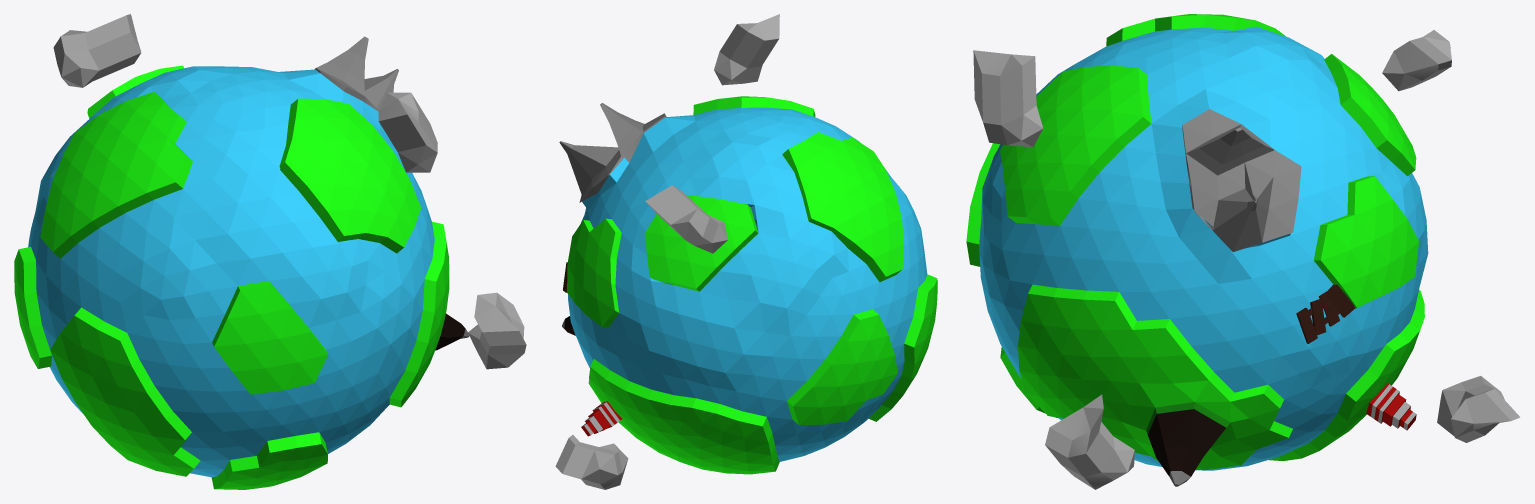
Rendered from ball.obj.
3 views of the same model, side by side, from view 1: azimuth 30°, elevation 25°; view 2: azimuth 150°, elevation 25°; view 3: azimuth 270°, elevation 25° (orthographic). The views are drawn at different scales.
Visible parts, largest first — view 1: Icosphere.000, Icosphere.004_Icosphere.001, Icosphere.001_Icosphere.001, Icosphere.002_Icosphere.001; view 2: Icosphere.000, Icosphere.001_Icosphere.001, Icosphere.004_Icosphere.001, Icosphere.003_Icosphere.001, Cube.001_Cube.001; view 3: Icosphere.000, Icosphere.001_Icosphere.001, Icosphere.002_Icosphere.001, Icosphere.003_Icosphere.001, Icosphere.004_Icosphere.001, Cube_Cube.001, Cube.001_Cube.001.
Part boxes in pixels (x1,y1,x2,y2): Icosphere.000: (14,36,469,489); Icosphere.004_Icosphere.001: (53,14,141,87); Icosphere.001_Icosphere.001: (378,92,437,172); Icosphere.002_Icosphere.001: (468,292,526,369); Icosphere.000: (559,96,937,474); Icosphere.001_Icosphere.001: (714,14,779,85); Icosphere.004_Icosphere.001: (645,185,727,253); Icosphere.003_Icosphere.001: (555,435,628,489); Cube.001_Cube.001: (581,401,622,436); Icosphere.000: (966,14,1428,486); Icosphere.001_Icosphere.001: (973,50,1043,147); Icosphere.002_Icosphere.001: (1045,394,1134,489); Icosphere.003_Icosphere.001: (1437,376,1520,442); Icosphere.004_Icosphere.001: (1382,30,1451,91); Cube_Cube.001: (1296,284,1355,343); Cube.001_Cube.001: (1366,383,1416,430).
Bounding box in the file's own units: 2.41 × 2.18 × 2.49.
